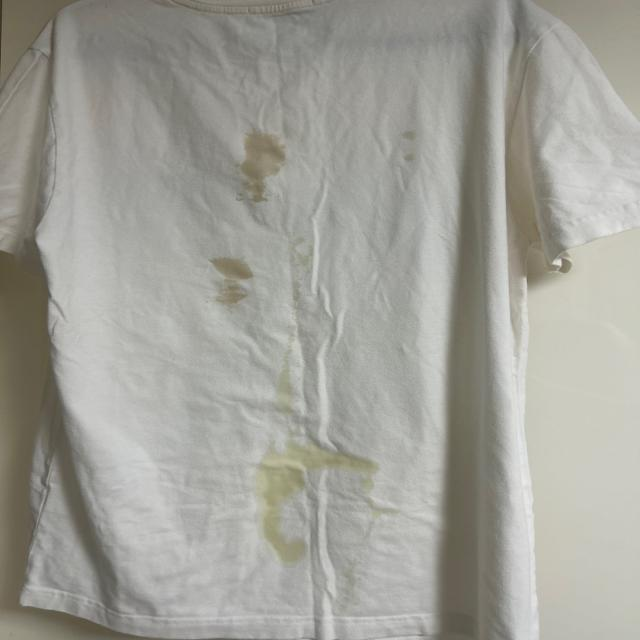stain: (248, 484, 410, 560), (255, 442, 389, 492), (233, 134, 293, 212), (200, 248, 267, 308), (267, 338, 309, 411), (395, 127, 424, 170), (295, 239, 319, 273)
